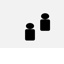human: (23, 21, 36, 41), (38, 11, 51, 31)
